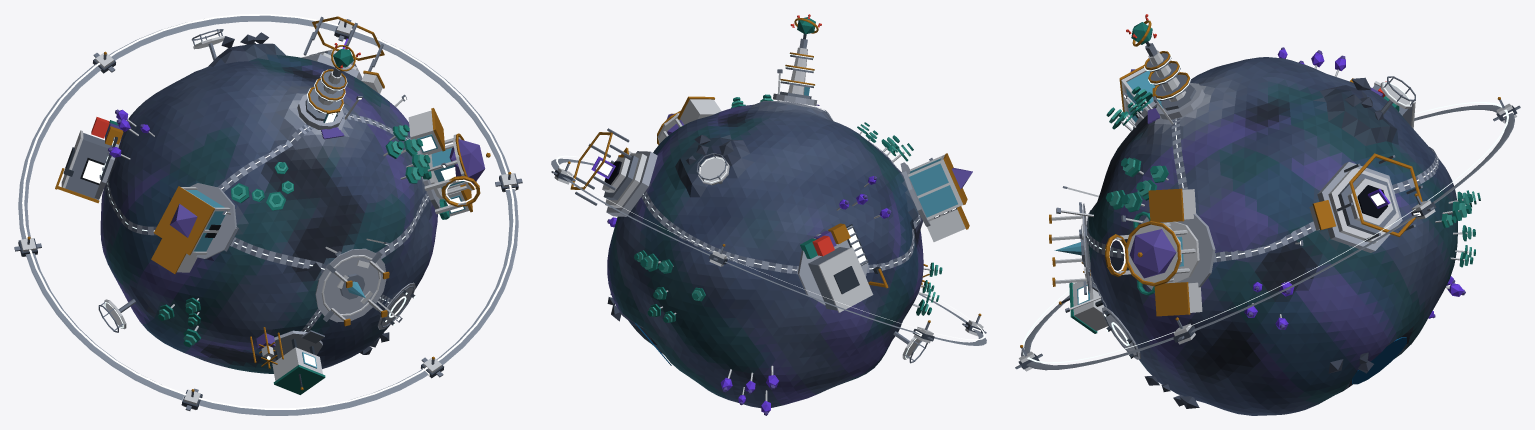
Rendered from products-v1.glb.
The picture shows the model from 3 angles, left to right: view 1: azimuth 30°, elevation 25°; view 2: azimuth 150°, elevation 25°; view 3: azimuth 270°, elevation 25°; orthographic projection. The views are drawn at different scales.
Parts seen in each view (by area): view 1: PRODUCTS_TERRAIN, ORBITAL_RING, PRODUCTS_DECORATIONS_STATIC, PLANNER_ATRIUM, PRODUCTS_ACCENTS_GLOW, WEDDING_PAVILION, INNOVATION_PLAZA, PROTOTYPE_LAB, INVENTORY_DEPOT, CULINARY_SPIRE, CARD_ARENA, PRODUCTS_PATH_PLAZA_ATRIUM (+3 smaller); view 2: PRODUCTS_TERRAIN, PRODUCTS_DECORATIONS_STATIC, INVENTORY_DEPOT, PLANNER_ATRIUM, CARD_ARENA, ORBITAL_RING, CULINARY_SPIRE, PRODUCTS_ACCENTS_GLOW, PRODUCTS_PATH_ARENA_DEPOT, WEDDING_PAVILION, PRODUCTS_PATH_ATRIUM_DEPOT; view 3: PRODUCTS_TERRAIN, WEDDING_PAVILION, PRODUCTS_DECORATIONS_STATIC, CARD_ARENA, ORBITAL_RING, CULINARY_SPIRE, PRODUCTS_ACCENTS_GLOW, INNOVATION_PLAZA, PROTOTYPE_LAB, PLANNER_ATRIUM, PRODUCTS_PATH_PAVILION_ARENA, PRODUCTS_LAKE_WATER (+2 smaller).
Boxes of the visible parts, <box> form: PRODUCTS_TERRAIN: <box>100,43,437,373</box>; ORBITAL_RING: <box>14,15,522,415</box>; PRODUCTS_DECORATIONS_STATIC: <box>98,29,447,354</box>; PLANNER_ATRIUM: <box>151,183,238,274</box>; PRODUCTS_ACCENTS_GLOW: <box>22,14,515,409</box>; WEDDING_PAVILION: <box>408,108,490,219</box>; INNOVATION_PLAZA: <box>315,248,389,326</box>; PROTOTYPE_LAB: <box>250,327,325,394</box>; INVENTORY_DEPOT: <box>55,117,123,203</box>; CULINARY_SPIRE: <box>297,43,360,139</box>; CARD_ARENA: <box>301,16,384,93</box>; PRODUCTS_PATH_PLAZA_ATRIUM: <box>230,237,326,273</box>; PRODUCTS_TERRAIN: <box>607,101,923,408</box>; PRODUCTS_DECORATIONS_STATIC: <box>607,69,942,415</box>; INVENTORY_DEPOT: <box>797,223,888,312</box>; PLANNER_ATRIUM: <box>900,153,972,241</box>; CARD_ARENA: <box>570,128,657,216</box>; ORBITAL_RING: <box>551,155,986,345</box>; CULINARY_SPIRE: <box>773,14,821,105</box>; PRODUCTS_ACCENTS_GLOW: <box>556,54,985,358</box>; PRODUCTS_PATH_ARENA_DEPOT: <box>641,191,798,274</box>; WEDDING_PAVILION: <box>657,96,721,144</box>; PRODUCTS_PATH_ATRIUM_DEPOT: <box>866,213,920,272</box>; PRODUCTS_TERRAIN: <box>1087,57,1457,415</box>; WEDDING_PAVILION: <box>1105,188,1215,316</box>; PRODUCTS_DECORATIONS_STATIC: <box>1056,47,1480,408</box>; CARD_ARENA: <box>1309,153,1422,252</box>; ORBITAL_RING: <box>1015,97,1520,371</box>; CULINARY_SPIRE: <box>1126,14,1204,123</box>; PRODUCTS_ACCENTS_GLOW: <box>1022,52,1513,363</box>; INNOVATION_PLAZA: <box>1049,202,1090,294</box>; PROTOTYPE_LAB: <box>1059,262,1107,333</box>; PLANNER_ATRIUM: <box>1119,65,1157,129</box>; PRODUCTS_PATH_PAVILION_ARENA: <box>1213,221,1315,262</box>; PRODUCTS_LAKE_WATER: <box>1352,337,1406,384</box>.
Size of the model in its own units: 12.67 by 9.81 by 11.81.
